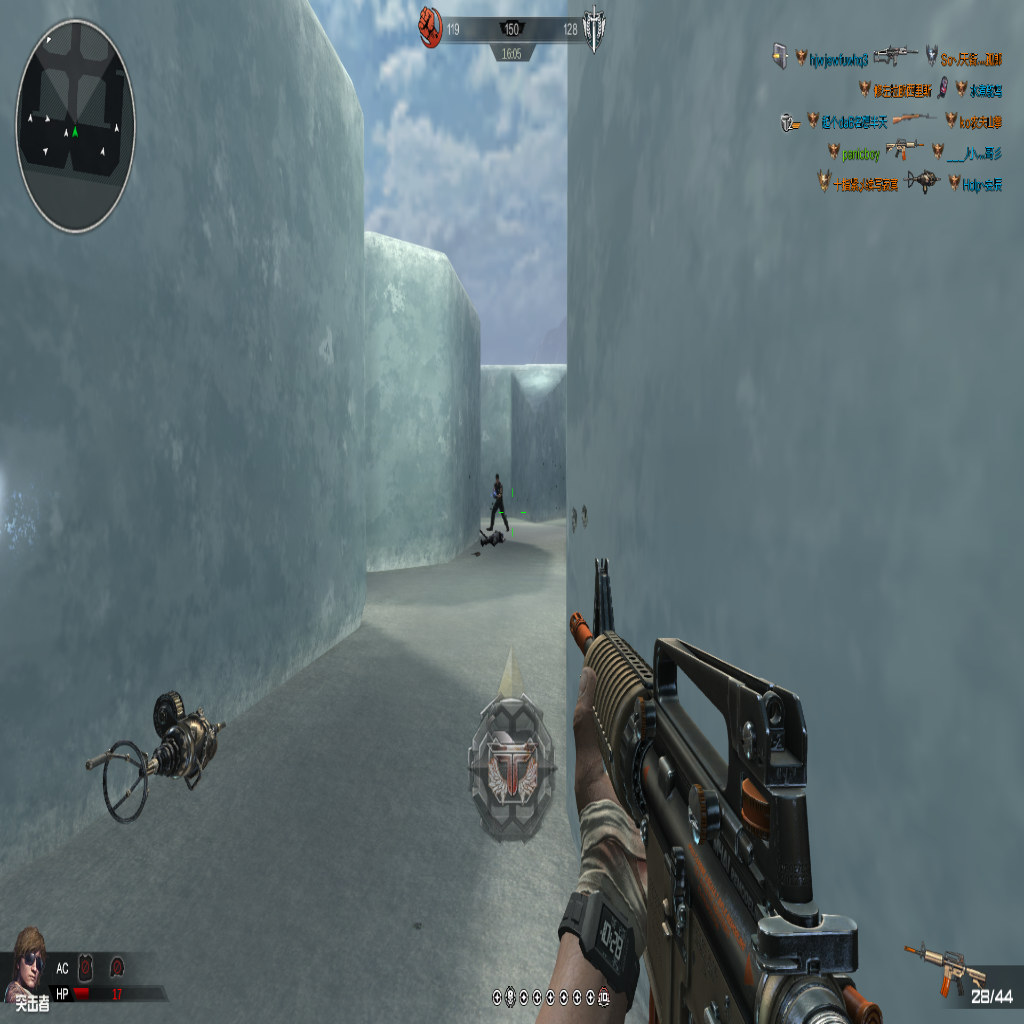ct: (488, 471, 508, 539)
